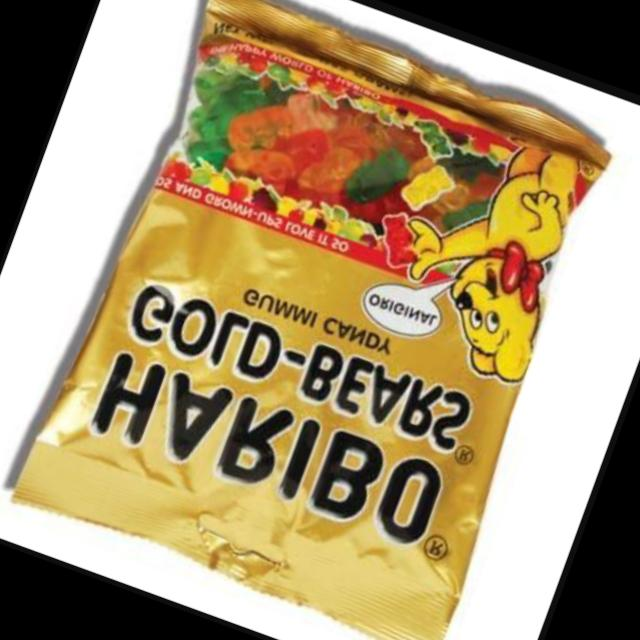KemasanPlastik: (2, 0, 628, 640)
